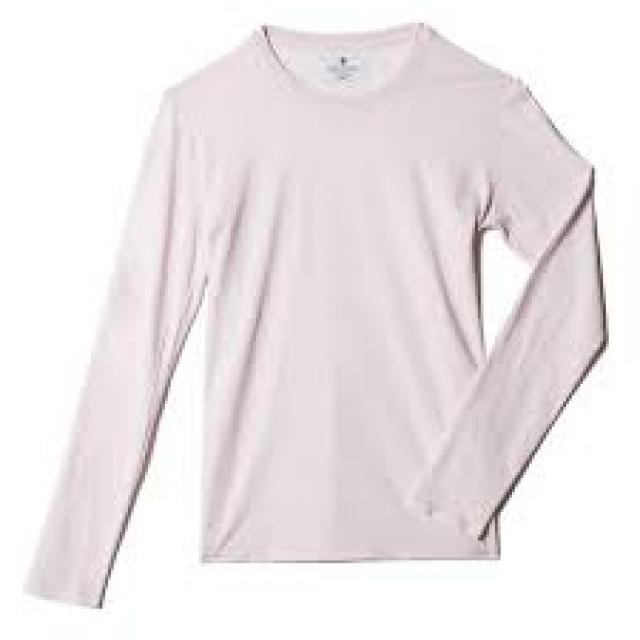plain: (43, 21, 611, 602)
